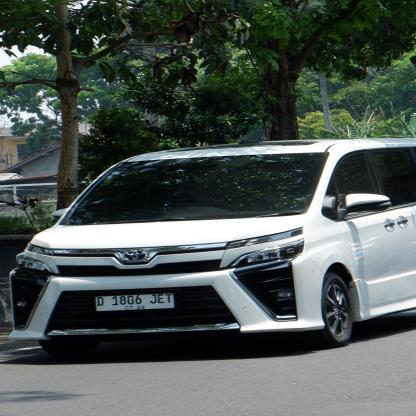Plat-Nomor: (90, 292, 180, 313)
